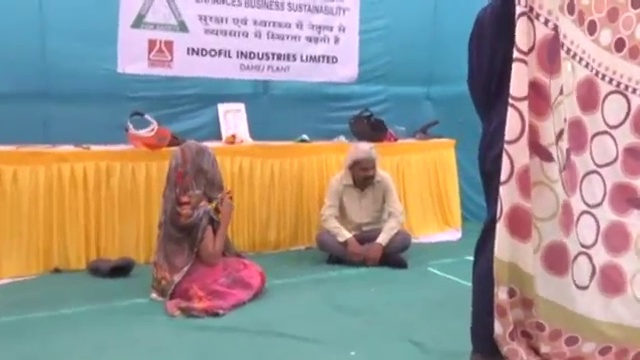helmet_off: (171, 143, 223, 187), (346, 145, 378, 192)
person: (145, 142, 266, 316), (464, 1, 518, 360), (312, 145, 411, 267)
